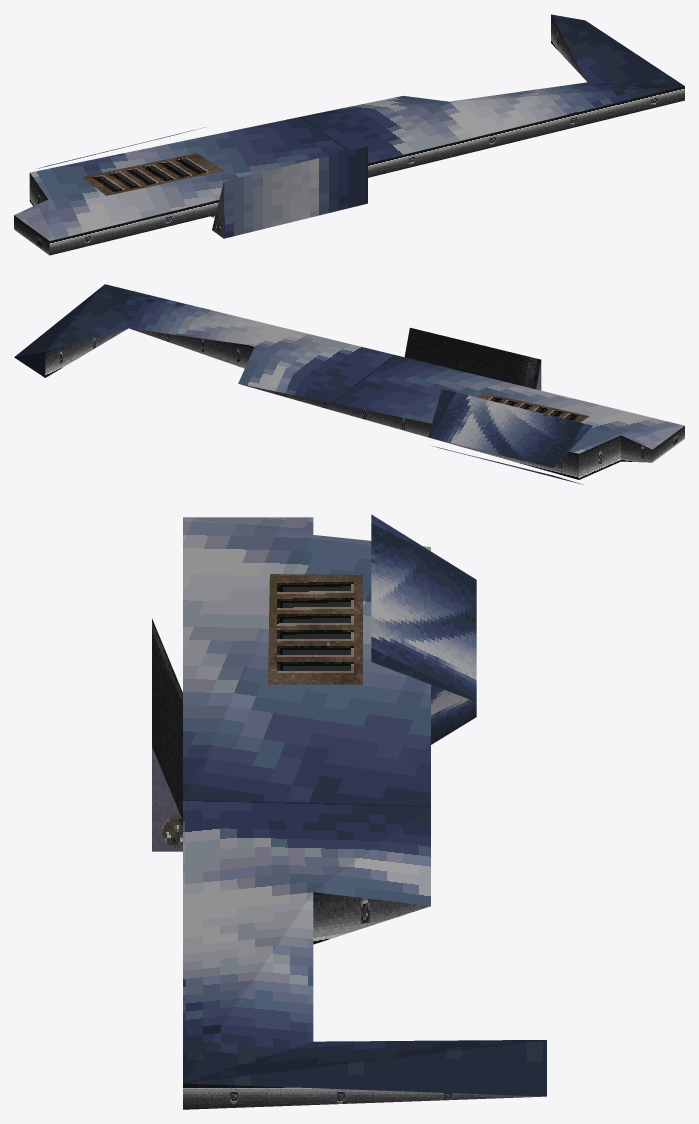
File: 0d-laptop-gun-tp.glb
3 views of the same model, one above another, from view 1: azimuth 30°, elevation 25°; view 2: azimuth 150°, elevation 25°; view 3: azimuth 270°, elevation 25° (orthographic). The views are drawn at different scales.
Visible parts, largest first — view 1: gun; view 2: gun; view 3: gun.
Boxes of the visible parts, x1,y1,x2,y2 form: gun: (14, 14, 684, 255); gun: (14, 284, 684, 484); gun: (152, 514, 546, 1109).
Bounding box in the file's own units: 779 × 76.92 × 230.
7 materials, 7 textured.
